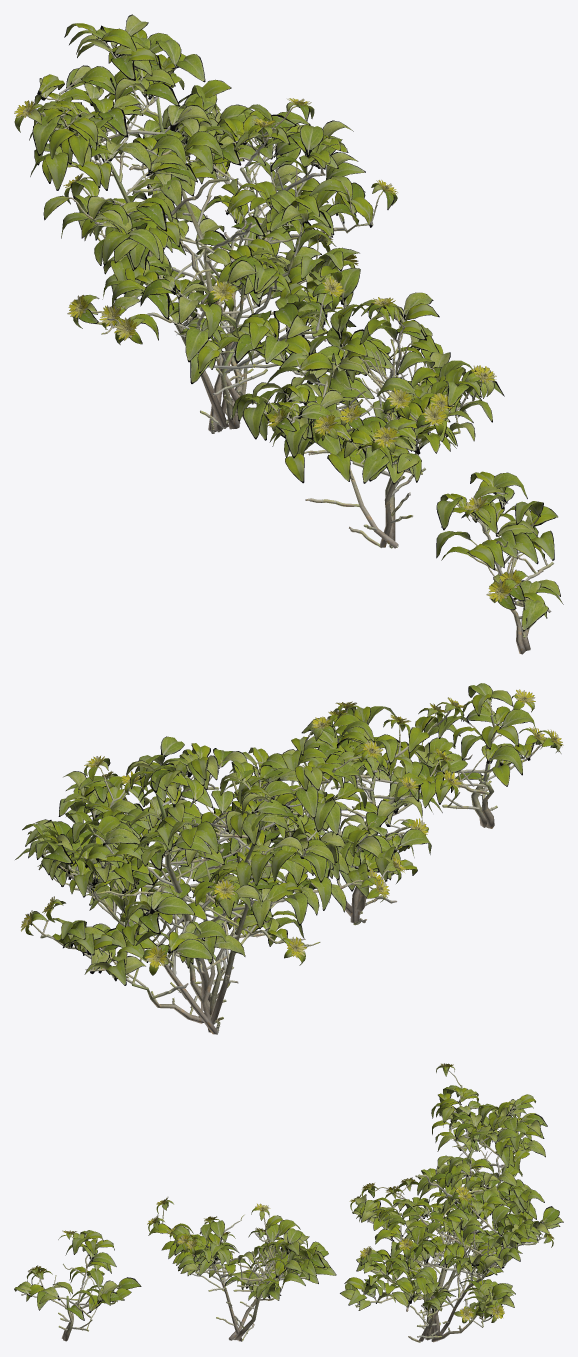
Rendered from didelta_spinosa.glb.
The picture shows the model from 3 angles, top to bottom: view 1: azimuth 30°, elevation 25°; view 2: azimuth 150°, elevation 25°; view 3: azimuth 270°, elevation 25°; orthographic projection. The views are drawn at different scales.
Visible parts, largest first — view 1: didelta_spinosa_large_LOD0, didelta_spinosa_medium_LOD0, didelta_spinosa_small_LOD0; view 2: didelta_spinosa_large_LOD0, didelta_spinosa_medium_LOD0, didelta_spinosa_small_LOD0; view 3: didelta_spinosa_large_LOD0, didelta_spinosa_medium_LOD0, didelta_spinosa_small_LOD0.
Boxes of the visible parts, box(x1,y1,x2,y2) form: didelta_spinosa_large_LOD0: box(14, 14, 397, 433); didelta_spinosa_medium_LOD0: box(231, 292, 504, 548); didelta_spinosa_small_LOD0: box(436, 471, 563, 654); didelta_spinosa_large_LOD0: box(15, 736, 406, 1034); didelta_spinosa_medium_LOD0: box(224, 697, 465, 925); didelta_spinosa_small_LOD0: box(414, 683, 563, 828); didelta_spinosa_large_LOD0: box(340, 1063, 563, 1342); didelta_spinosa_medium_LOD0: box(147, 1197, 336, 1341); didelta_spinosa_small_LOD0: box(14, 1230, 141, 1341).
Bounding box in the file's own units: 2.12 × 2.07 × 4.56.
1 material, 1 textured.
